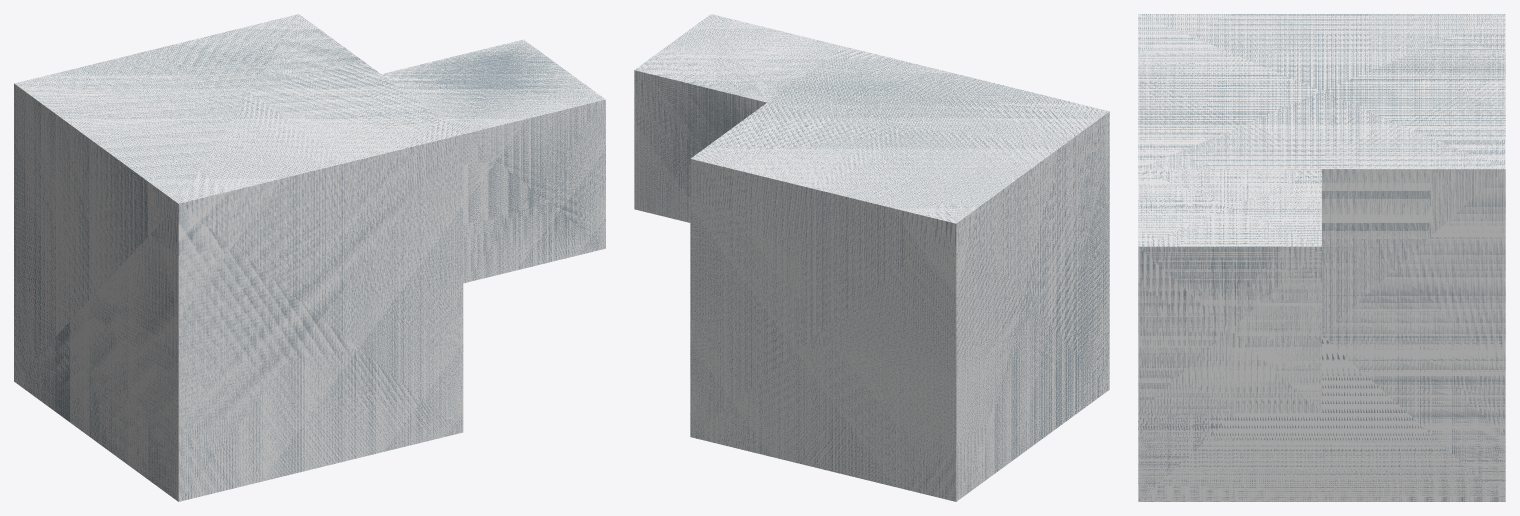
Rendered from mixed-definition.dae.
The picture shows the model from 3 angles, left to right: view 1: azimuth 30°, elevation 25°; view 2: azimuth 150°, elevation 25°; view 3: azimuth 270°, elevation 25°; orthographic projection. The views are drawn at different scales.
Visible parts, largest first — view 1: Outer_Component, _0.5_box; view 2: Outer_Component, _0.5_box; view 3: Outer_Component, _0.5_box.
Part boxes in pixels (<box>): Outer_Component: <box>14,14,463,501</box>; _0.5_box: <box>381,39,605,283</box>; Outer_Component: <box>690,46,1109,501</box>; _0.5_box: <box>634,14,843,222</box>; Outer_Component: <box>1138,14,1505,501</box>; _0.5_box: <box>1138,169,1321,413</box>.
Size of the model in its own units: 59.06 by 39.37 by 39.37.
